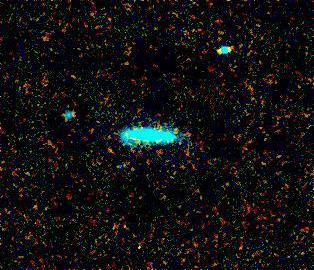star: (93, 133, 123, 163)
